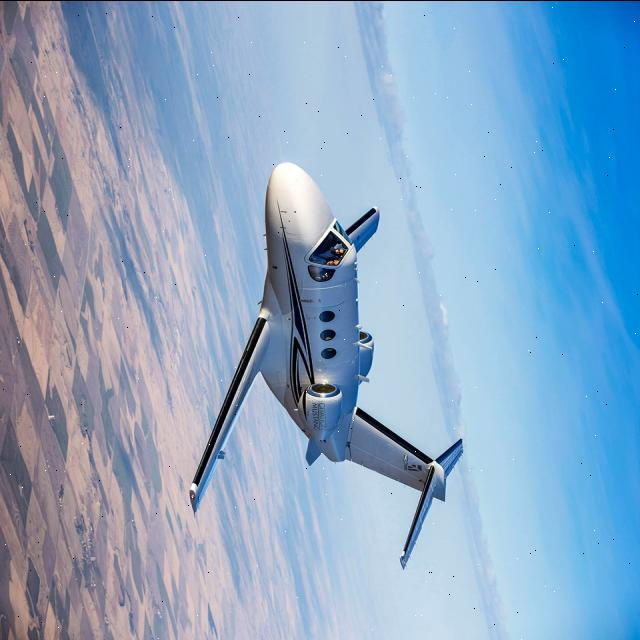jet: (84, 124, 492, 580)
